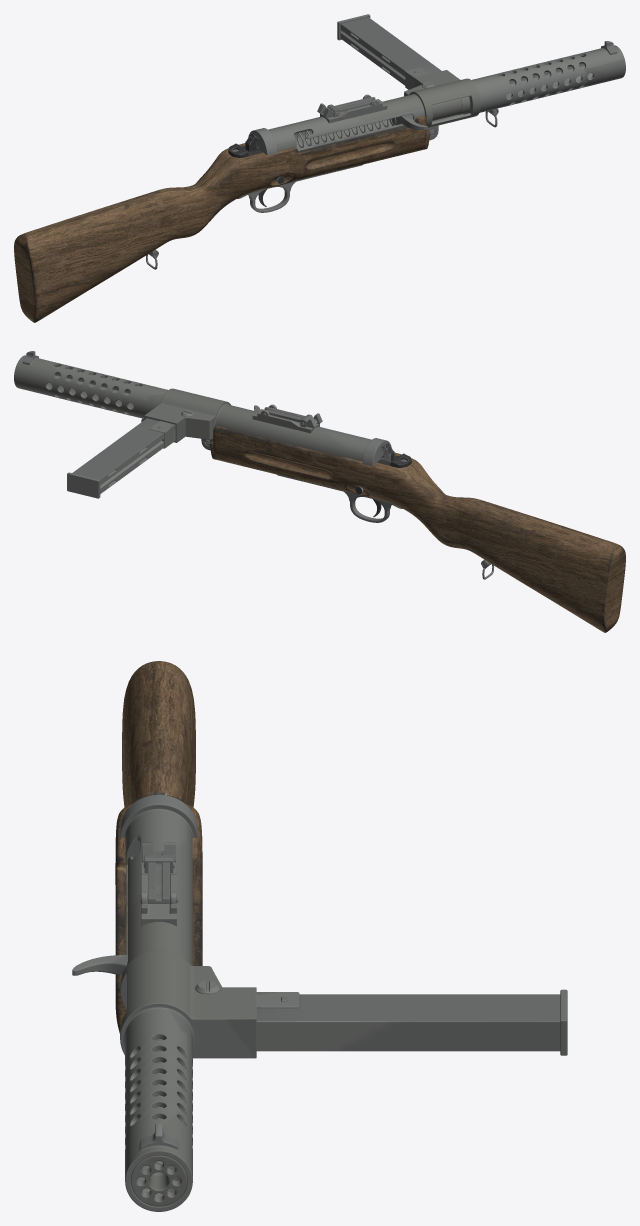
3 renders of one model, top to bottom at view 1: azimuth 30°, elevation 25°; view 2: azimuth 150°, elevation 25°; view 3: azimuth 270°, elevation 25°, orthographic. The views are drawn at different scales.
Parts seen in each view (by area): view 1: Circle.001, Cube.005, Circle; view 2: Circle.001, Cube.005; view 3: Circle.001, Cube.005.
Boxes of the visible parts, x1,y1,x2,y2 form: Circle.001: [14, 41, 625, 322]; Cube.005: [337, 14, 441, 89]; Circle: [297, 117, 396, 148]; Circle.001: [14, 351, 625, 632]; Cube.005: [67, 418, 175, 498]; Circle.001: [72, 661, 256, 1211]; Cube.005: [256, 989, 567, 1055].
Bounding box in the file's own units: 85.59 × 19.75 × 30.75.
